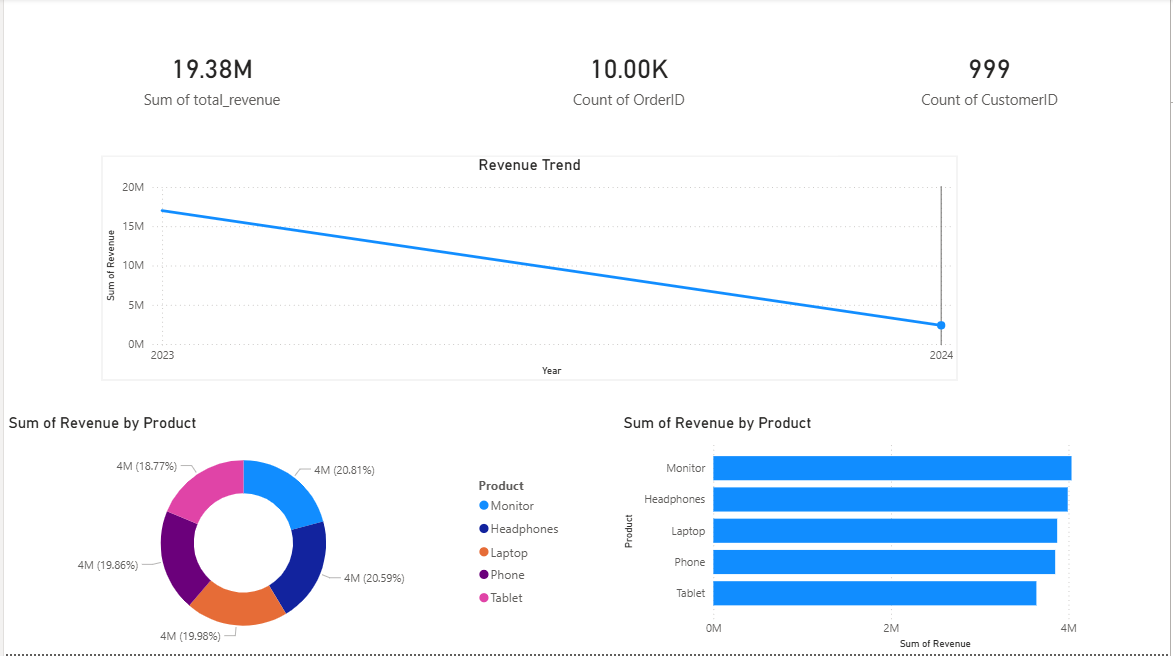

The dashboard page shown, as its layout file describes it:
{"tool":"powerbi","page":{"name":"Page 1","canvas":[1280,720],"ordinal":0},"visuals":[{"type":"lineChart","title":"Revenue Trend","fields":{"Category":["retail_sales_db retail_sales.OrderDate.Variation.Date Hierarchy.Year","retail_sales_db retail_sales.OrderDate.Variation.Date Hierarchy.Quarter","retail_sales_db retail_sales.OrderDate.Variation.Date Hierarchy.Month","retail_sales_db retail_sales.OrderDate.Variation.Date Hierarchy.Day"],"Y":["Sum(retail_sales_db retail_sales.Revenue)"]},"box":[107,172.9,940,247],"z":0},{"type":"barChart","fields":{"Y":["Sum(retail_sales_db retail_sales.Revenue)"],"Category":["retail_sales_db retail_sales.Product"]},"box":[675.1,455.6,605.1,264.8],"z":1000},{"type":"donutChart","fields":{"Category":["retail_sales_db retail_sales.Product"],"Y":["Sum(retail_sales_db retail_sales.Revenue)"]},"box":[0,455.6,623,264.8],"z":1001},{"type":"card","fields":{"Values":["Sum(retail_sales_db sales_summary.total_revenue)"]},"box":[0,0,456.9,172.9],"z":1002},{"type":"card","fields":{"Values":["CountNonNull(retail_sales_db retail_sales.OrderID)"]},"box":[456.9,0,458.3,172.9],"z":1003},{"type":"card","fields":{"Values":["Count(retail_sales_db retail_sales.CustomerID)"]},"box":[883.7,0,396.6,172.9],"z":1004}]}

Visuals, with their boxes in screenshot pixels (x1, y1, x2, y2), scaled from the page's 1280x720 canvas onto the 1173x656 screenshot:
"Revenue Trend" lineChart: {"left": 98, "top": 158, "right": 959, "bottom": 383}
barChart - Sum(retail_sales_db retail_sales.Revenue) x retail_sales_db retail_sales.Product: {"left": 619, "top": 415, "right": 1172, "bottom": 655}
donutChart - retail_sales_db retail_sales.Product x Sum(retail_sales_db retail_sales.Revenue): {"left": 0, "top": 415, "right": 571, "bottom": 655}
card - Sum(retail_sales_db sales_summary.total_revenue): {"left": 0, "top": 0, "right": 419, "bottom": 158}
card - CountNonNull(retail_sales_db retail_sales.OrderID): {"left": 419, "top": 0, "right": 839, "bottom": 158}
card - Count(retail_sales_db retail_sales.CustomerID): {"left": 810, "top": 0, "right": 1172, "bottom": 158}
